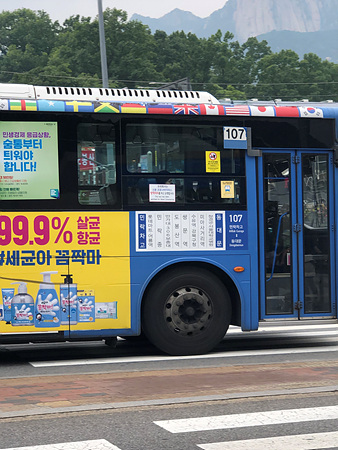entrance: (257, 144, 336, 326)
